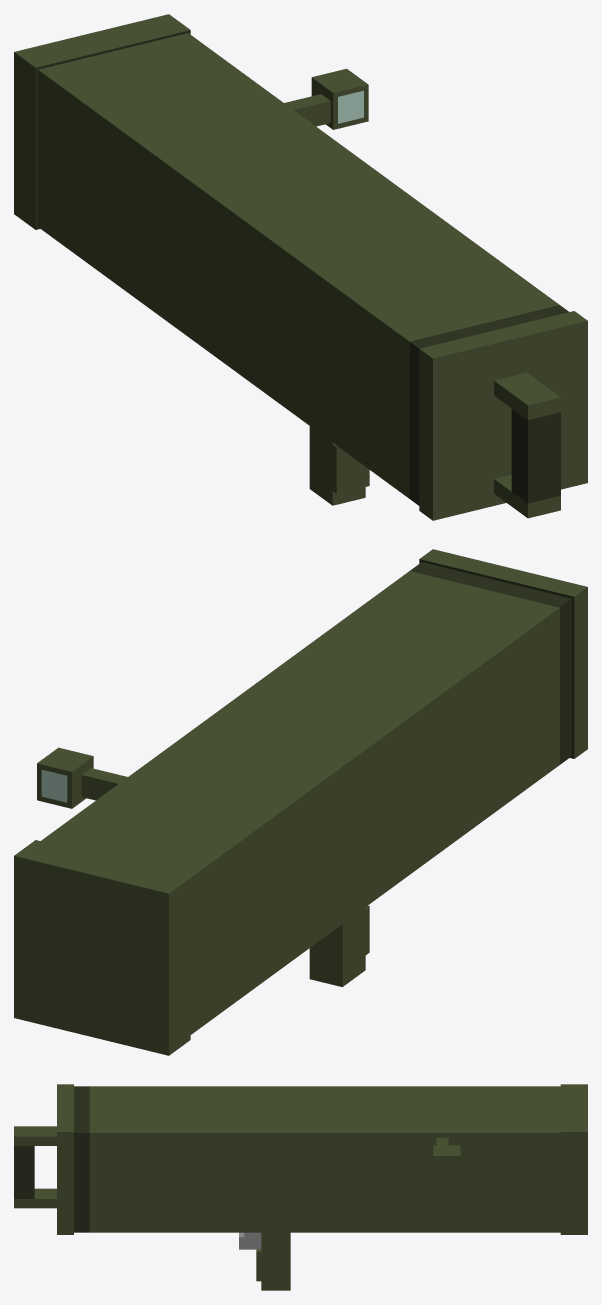
Rendered from quad_launcher.fbx.
3 renders of one model, top to bottom at view 1: azimuth 30°, elevation 25°; view 2: azimuth 150°, elevation 25°; view 3: azimuth 270°, elevation 25°, orthographic. The views are drawn at different scales.
Parts seen in each view (by area): view 1: quad_launcher_base, quad_launcher_frontCover, quad_launcher_rearCover; view 2: quad_launcher_base, quad_launcher_rearCover, quad_launcher_frontCover; view 3: quad_launcher_base, quad_launcher_frontCover, quad_launcher_rearCover, quad_launcher_trigger.
Part boxes in pixels (x1,y1,x2,y2): quad_launcher_base: [38, 33, 568, 505]; quad_launcher_frontCover: [419, 311, 587, 520]; quad_launcher_rearCover: [14, 14, 190, 229]; quad_launcher_base: [37, 562, 571, 1034]; quad_launcher_rearCover: [14, 840, 190, 1055]; quad_launcher_frontCover: [419, 549, 587, 758]; quad_launcher_base: [74, 1086, 560, 1290]; quad_launcher_frontCover: [14, 1084, 73, 1234]; quad_launcher_rearCover: [560, 1084, 587, 1234]; quad_launcher_trigger: [239, 1232, 261, 1249].
Size of the model in its own units: 59.4 by 68.4 by 200.
